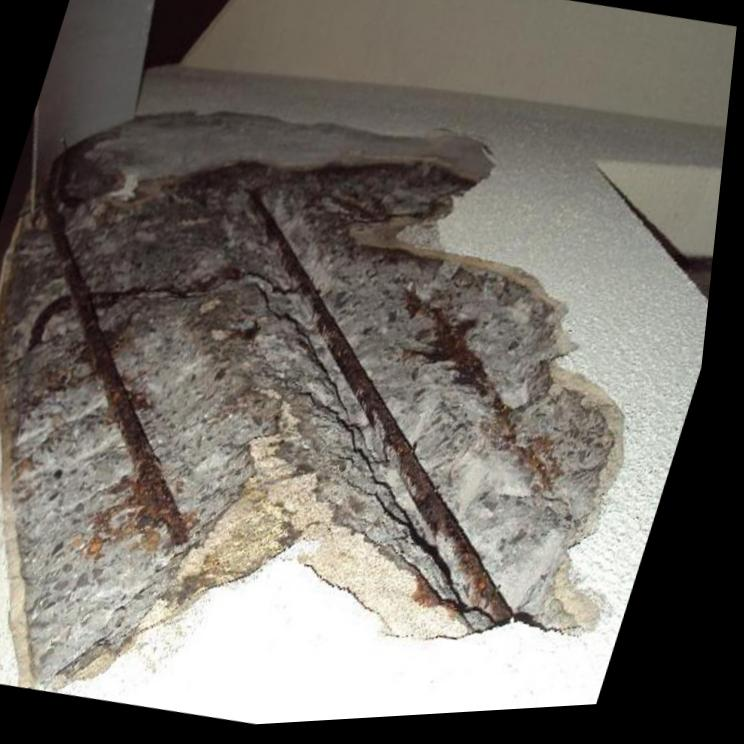damage: (0, 108, 634, 695)
